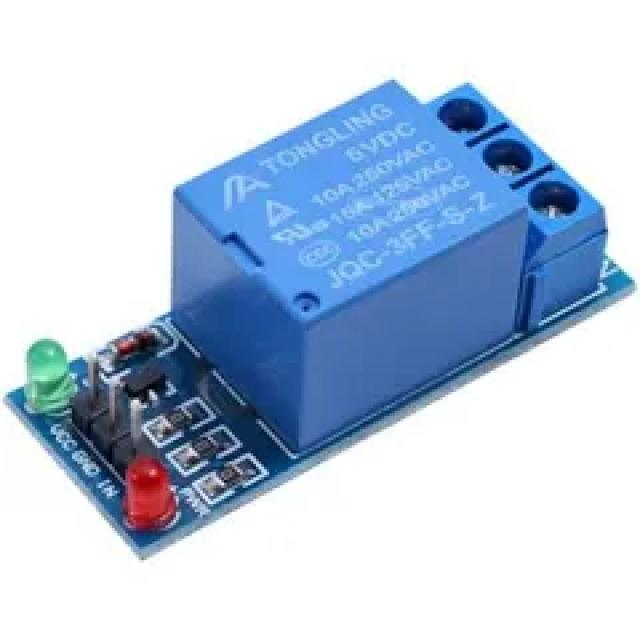Relay: (127, 148, 534, 398), (440, 86, 545, 164), (564, 184, 620, 312)
